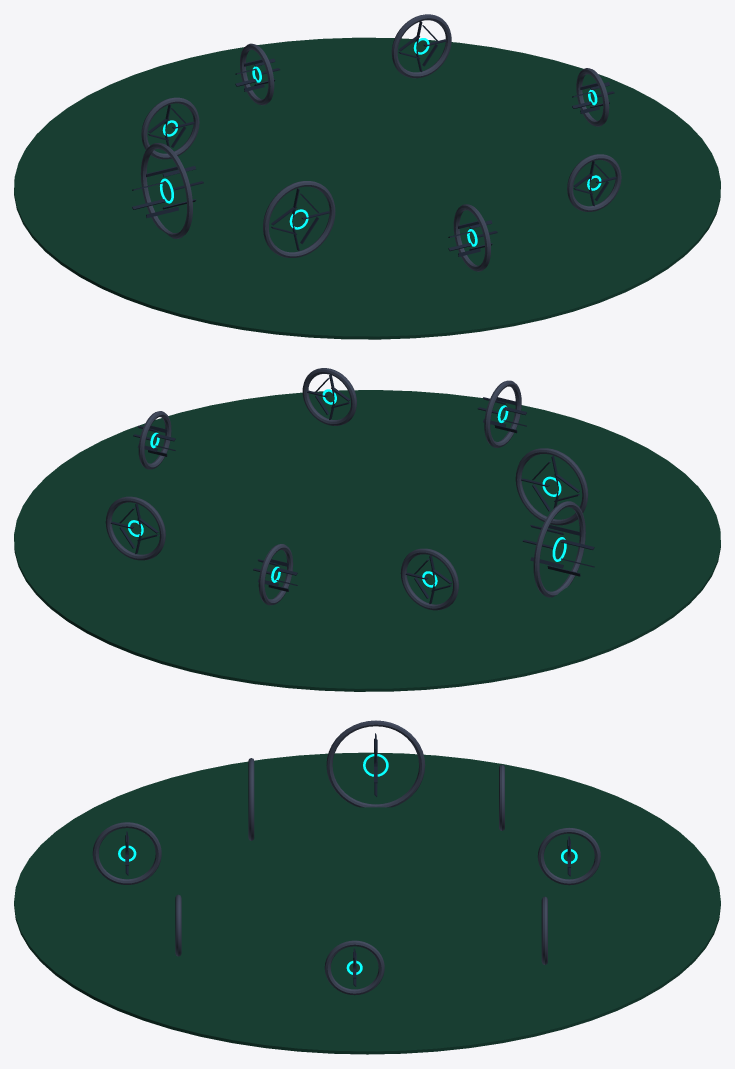
The model's file is backdrop_06.glb.
3 renders of one model, top to bottom at view 1: azimuth 30°, elevation 25°; view 2: azimuth 150°, elevation 25°; view 3: azimuth 270°, elevation 25°, orthographic.
Visible parts, largest first — view 1: backdrop_06; view 2: backdrop_06; view 3: backdrop_06.
Part boxes in pixels (left/top/right/bottom): backdrop_06: left=14, top=14, right=720, bottom=339; backdrop_06: left=14, top=368, right=720, bottom=691; backdrop_06: left=14, top=720, right=720, bottom=1054.
Size of the model in its own units: 80 by 11.18 by 80.
